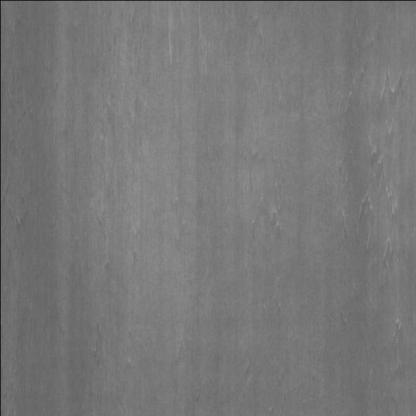silk_spot: (344, 56, 401, 266), (252, 167, 288, 246)
